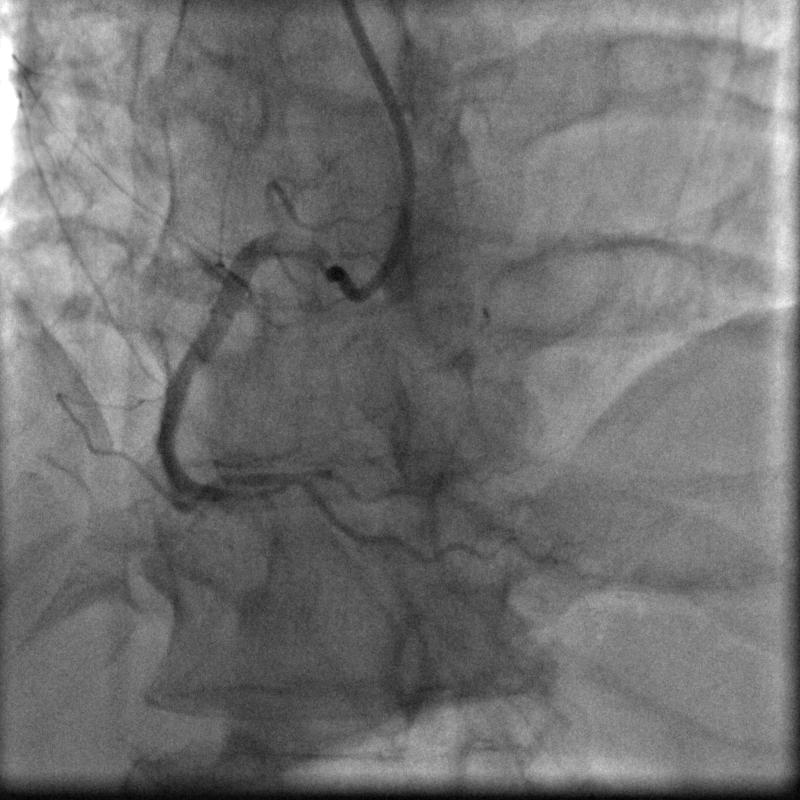Stenosis: (206, 483, 270, 507)
